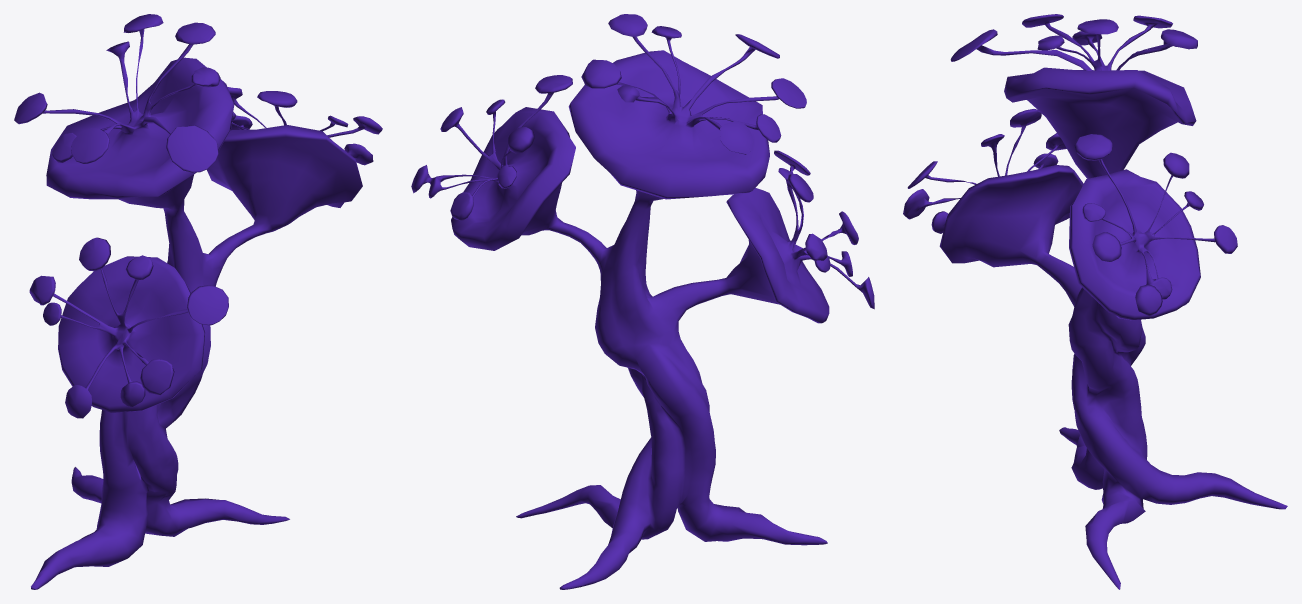
File: sm_alienPlant_01.fbx
The picture shows the model from 3 angles, left to right: view 1: azimuth 30°, elevation 25°; view 2: azimuth 150°, elevation 25°; view 3: azimuth 270°, elevation 25°; orthographic projection.
Visible parts, largest first — view 1: sm_alienPlant_01; view 2: sm_alienPlant_01; view 3: sm_alienPlant_01.
Part boxes in pixels (x1,y1,x2,y2): sm_alienPlant_01: [14, 14, 382, 589]; sm_alienPlant_01: [411, 14, 874, 589]; sm_alienPlant_01: [903, 14, 1287, 589].
Bounding box in the file's own units: 149 × 193 × 130.
